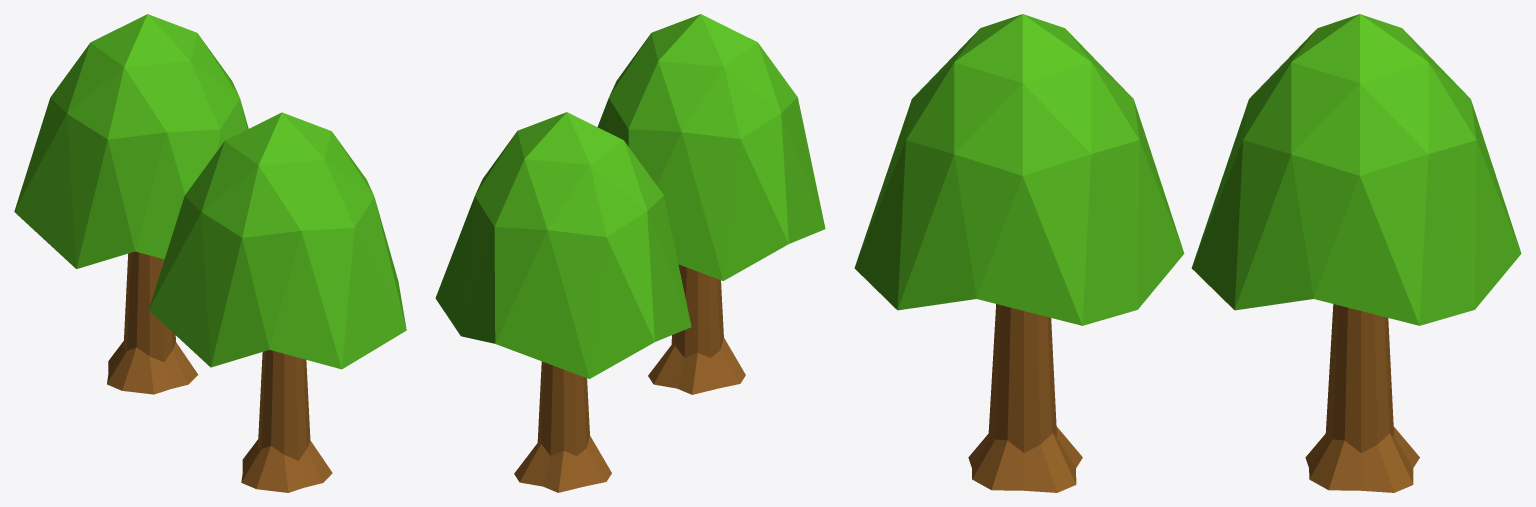
Rendered from tree.gltf.
3 views of the same model, side by side, from view 1: azimuth 30°, elevation 25°; view 2: azimuth 150°, elevation 25°; view 3: azimuth 270°, elevation 25° (orthographic). The views are drawn at different scales.
Visible parts, largest first — view 1: Icosphere.001, Cylinder, Cylinder.001; view 2: Cylinder, Icosphere.001, Cylinder.001; view 3: Cylinder, Icosphere.001, Cylinder.001.
Boxes of the visible parts, x1,y1,x2,y2 form: Icosphere.001: [149, 112, 406, 369]; Cylinder: [14, 14, 248, 394]; Cylinder.001: [241, 350, 332, 492]; Cylinder: [435, 112, 691, 492]; Icosphere.001: [597, 14, 825, 280]; Cylinder.001: [648, 264, 745, 394]; Cylinder: [1191, 14, 1521, 492]; Icosphere.001: [854, 14, 1184, 325]; Cylinder.001: [968, 304, 1082, 492].
Size of the model in its own units: 8.62 by 13.63 by 18.12.
